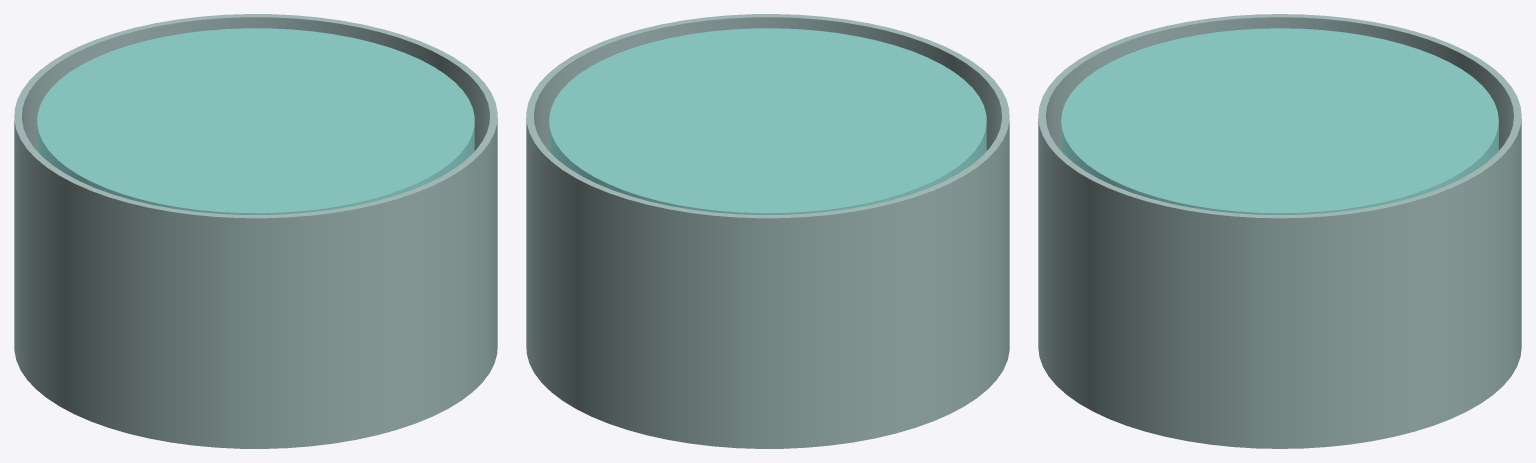
The model's file is Node_Tube_Unit_1m.glb.
3 renders of one model, left to right at view 1: azimuth 30°, elevation 25°; view 2: azimuth 150°, elevation 25°; view 3: azimuth 270°, elevation 25°, orthographic.
Visible parts, largest first — view 1: Node_Tube_Unit_1m, Node_Tube_Unit_1m_Goo; view 2: Node_Tube_Unit_1m, Node_Tube_Unit_1m_Goo; view 3: Node_Tube_Unit_1m, Node_Tube_Unit_1m_Goo.
Part boxes in pixels (bbox=[...]): Node_Tube_Unit_1m: bbox=[14, 14, 497, 448]; Node_Tube_Unit_1m_Goo: bbox=[37, 28, 474, 214]; Node_Tube_Unit_1m: bbox=[526, 14, 1009, 448]; Node_Tube_Unit_1m_Goo: bbox=[549, 28, 986, 214]; Node_Tube_Unit_1m: bbox=[1038, 14, 1521, 448]; Node_Tube_Unit_1m_Goo: bbox=[1061, 28, 1498, 214].
Size of the model in its own units: 1.9 by 1 by 1.9.
